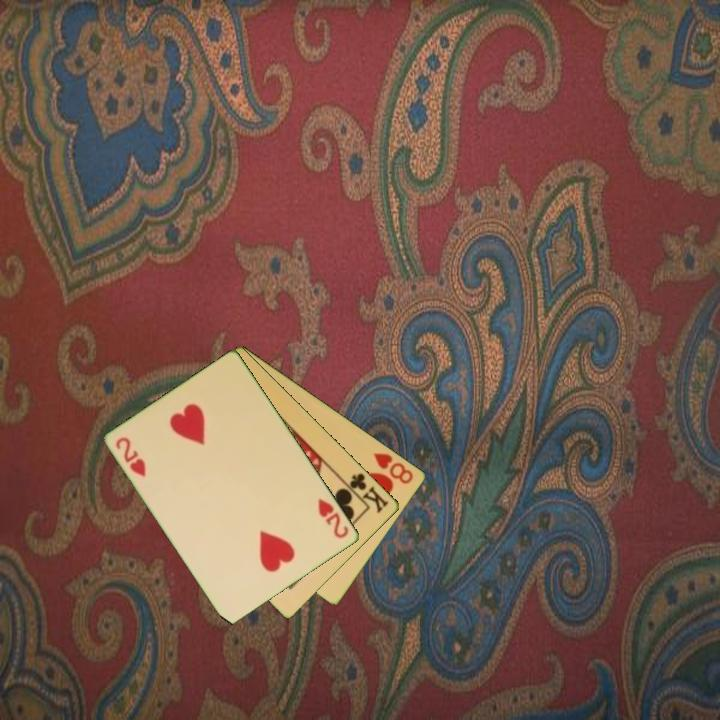2h: (112, 433, 149, 480), (315, 495, 352, 541)
8h: (370, 449, 417, 487)
Kc: (340, 469, 392, 516)
